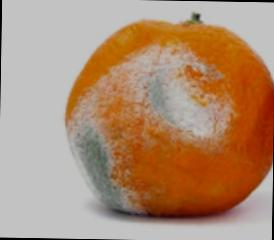Orange Rotten: (64, 3, 274, 240)
